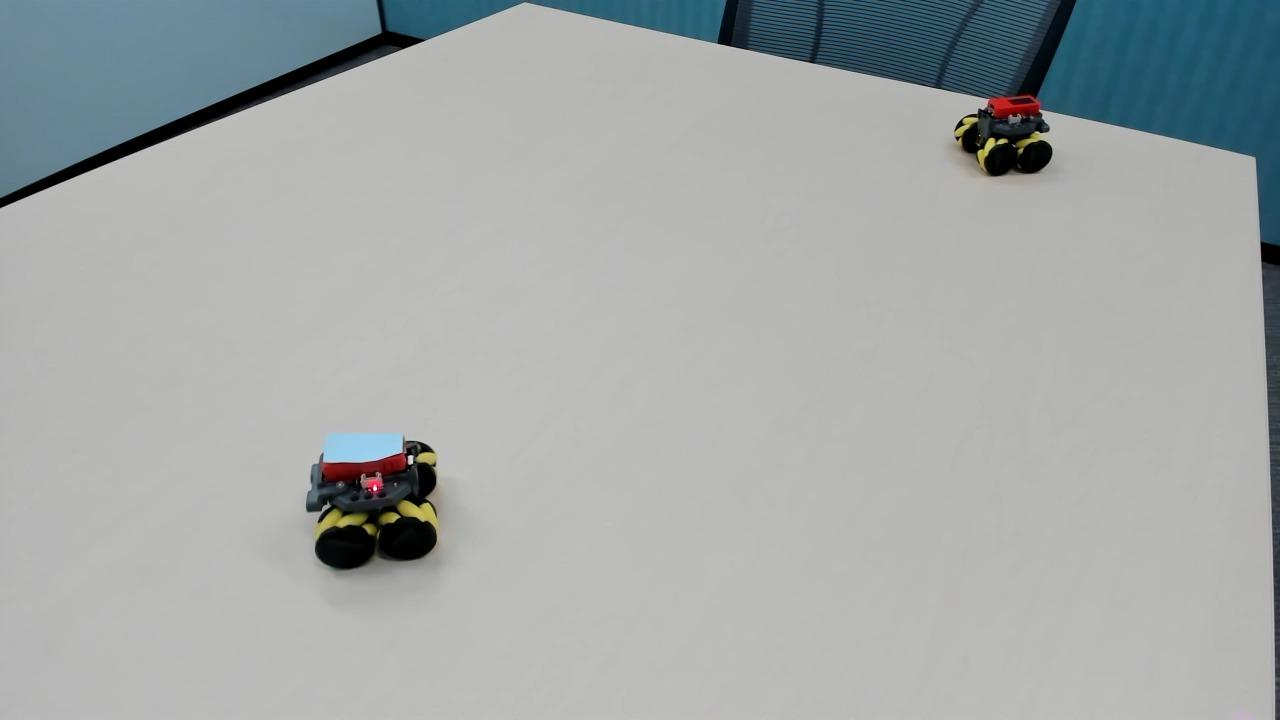B-Robot: (291, 415, 464, 584)
R-Robot: (945, 86, 1064, 194)
